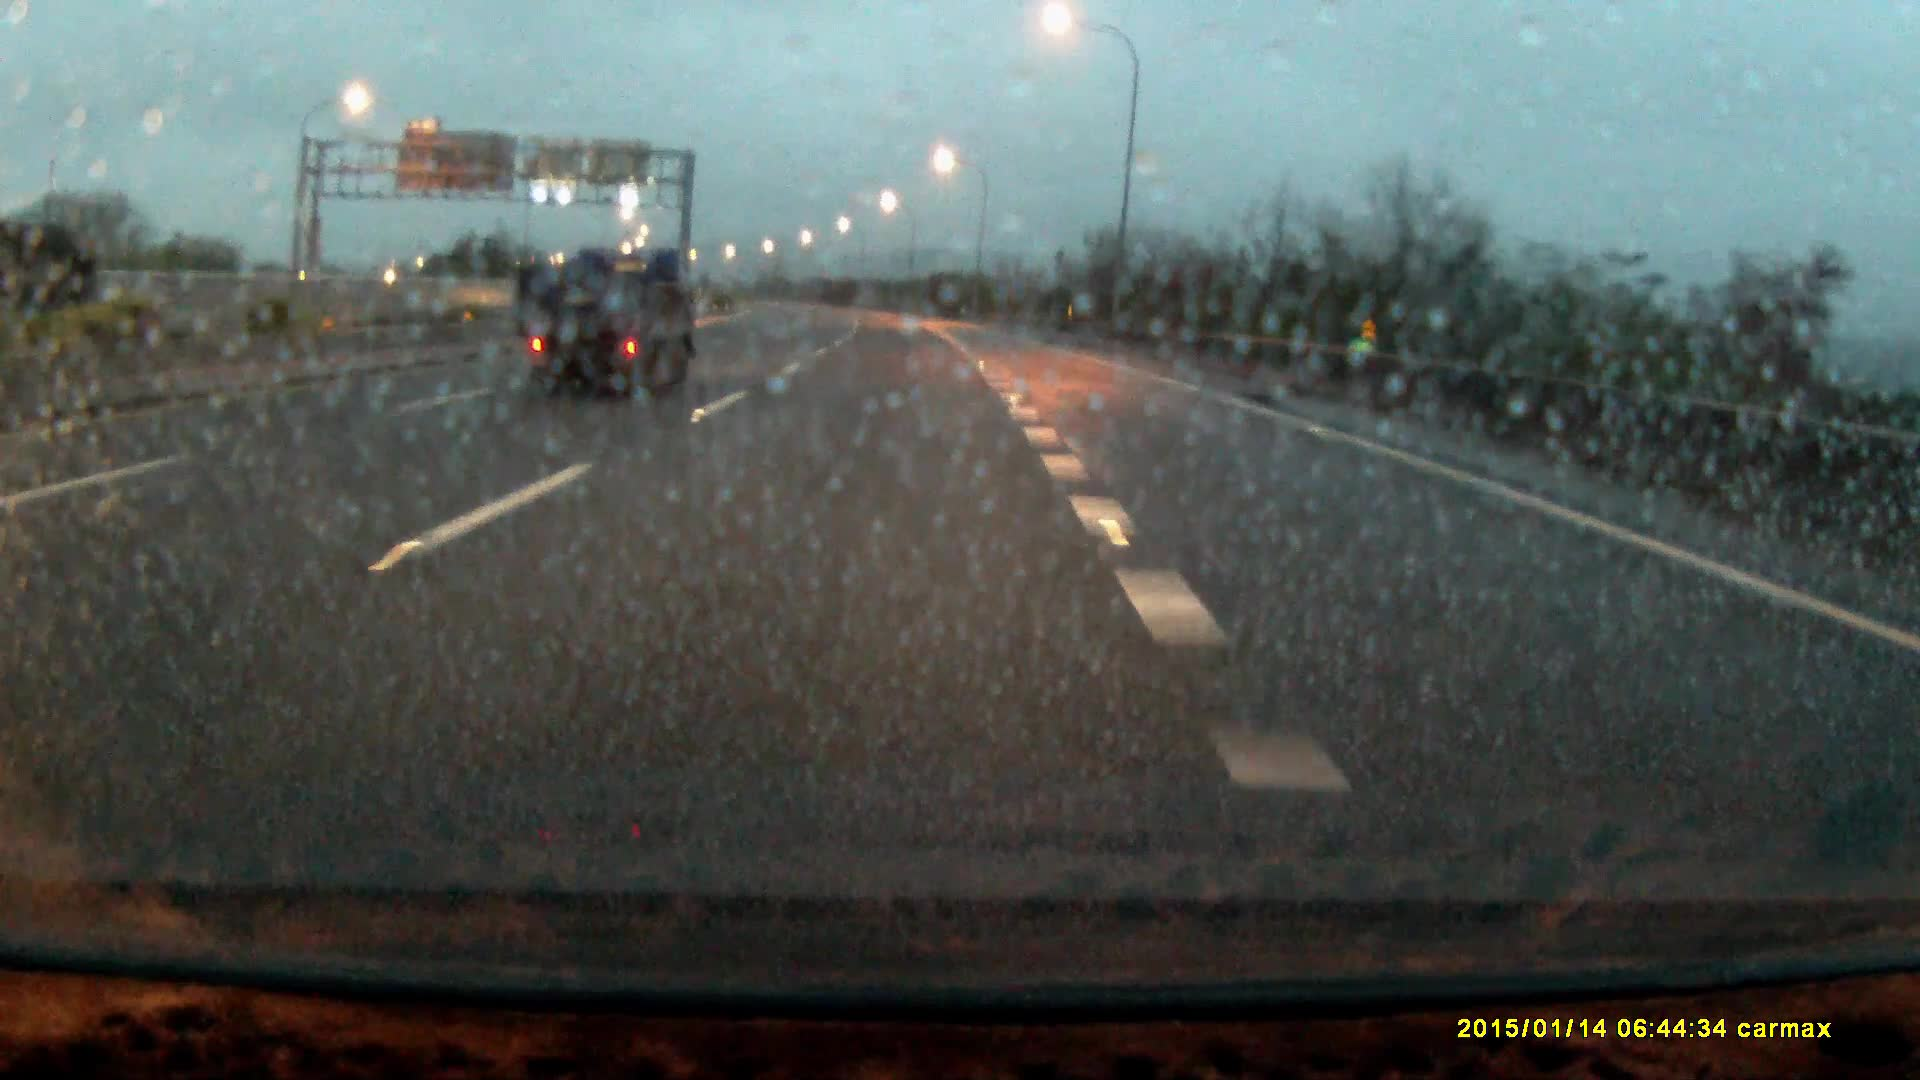vehicle: (521, 251, 703, 402)
